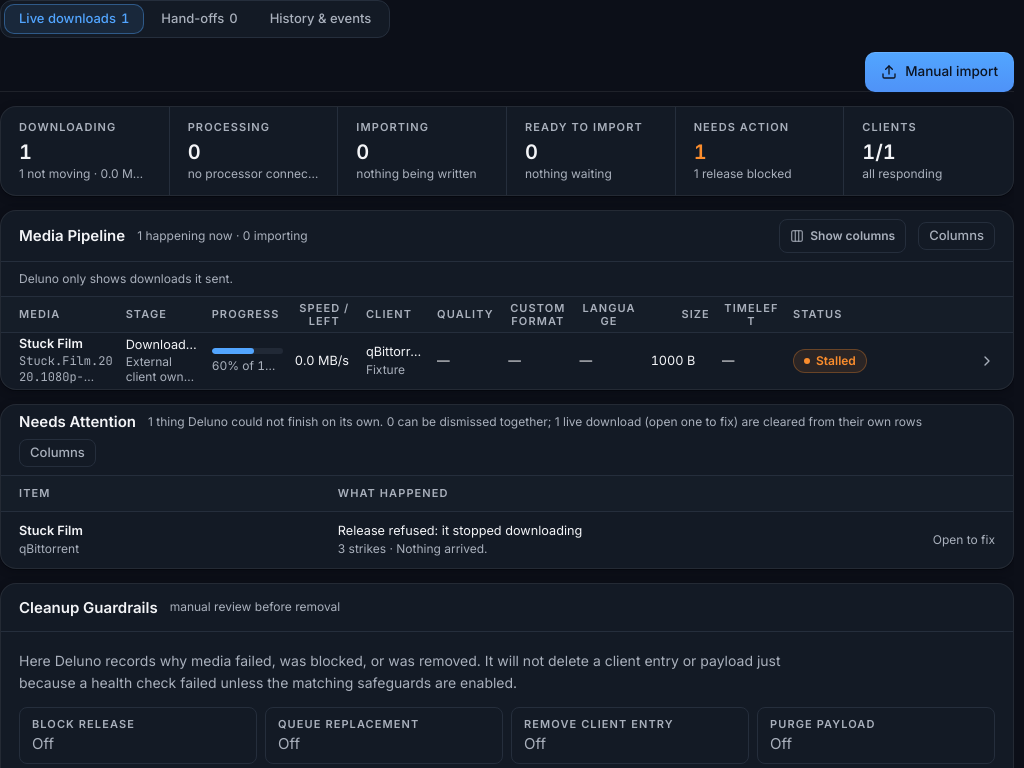
Scenario: Needs attention: a download that is still in the client › is listed with the reason, the strikes with their evidence and Open to fix, and opens the download's own drawer
Check: the text "3 strikes · Nothing arrived." is shown, box left=338, top=541, right=488, bottom=556
Check: the text "Open to fix" is shown, box left=933, top=532, right=995, bottom=547
Click the text "Release refused: it stopped downloading": click(460, 531) left=338, top=523, right=582, bottom=538
(page scrolled)
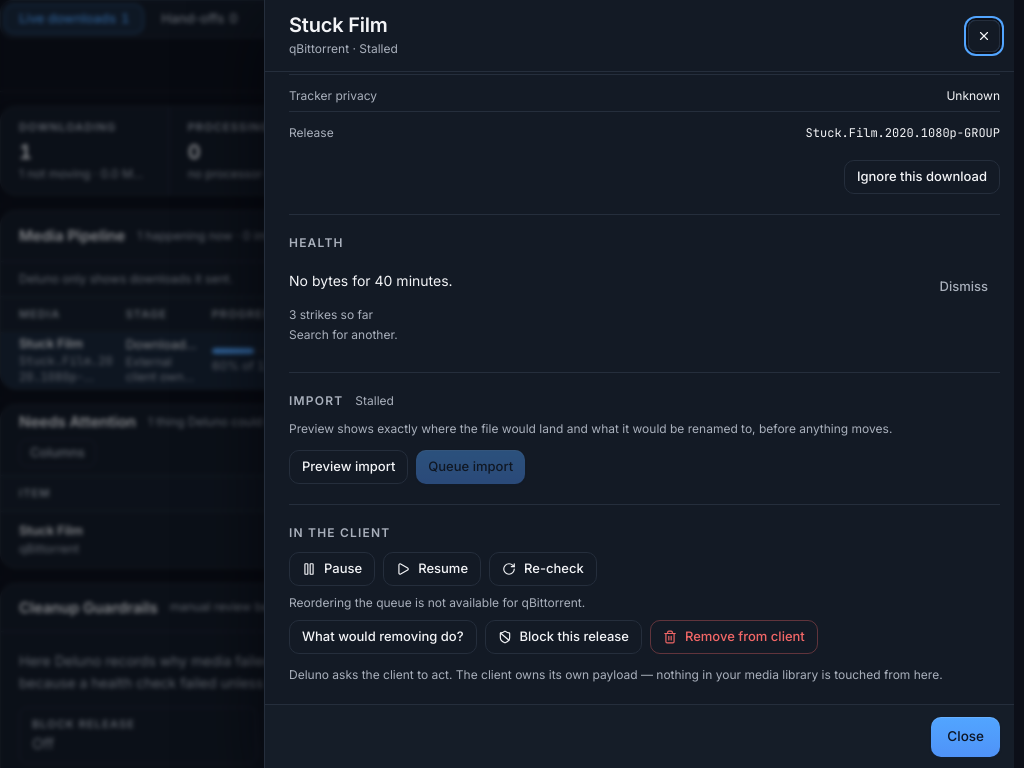
Check: the text "Stuck.Film.2020.1080p-GROUP" is shown, box left=806, top=124, right=1000, bottom=142
Check: the button "Remove from client" is shown, box left=650, top=620, right=818, bottom=654
